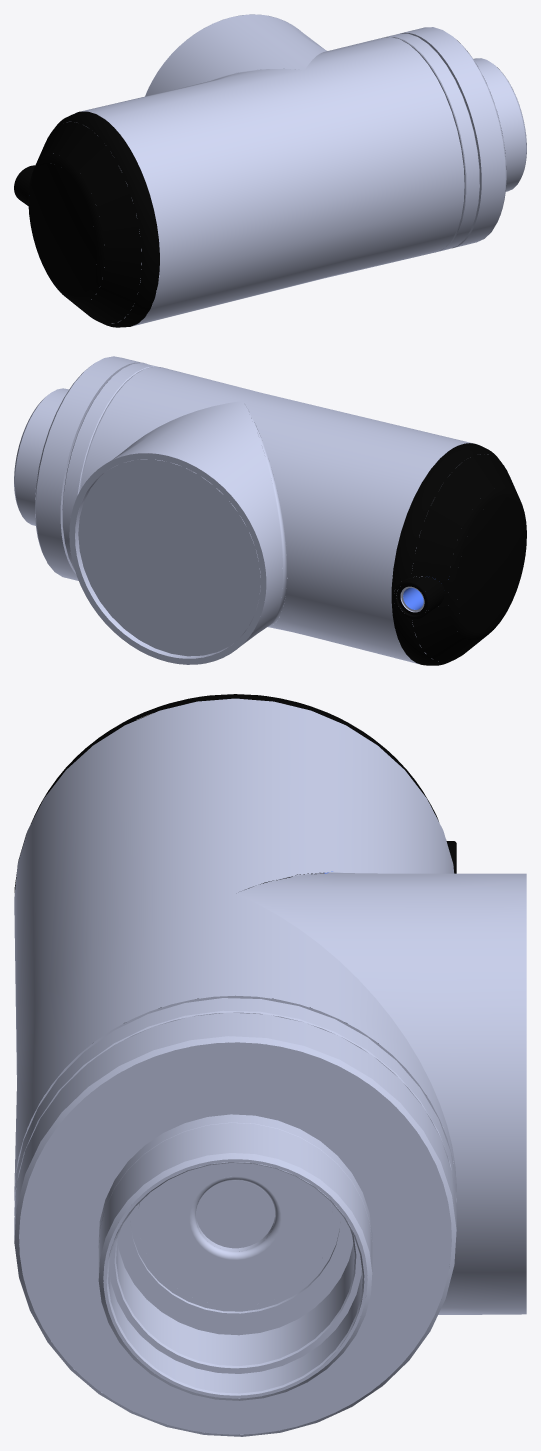
3 views of the same model, one above another, from view 1: azimuth 30°, elevation 25°; view 2: azimuth 150°, elevation 25°; view 3: azimuth 270°, elevation 25° (orthographic). The views are drawn at different scales.
Visible parts, largest first — view 1: j4.IGS (×3); view 2: j4.IGS (×3); view 3: j4.IGS (×3).
Part boxes in pixels (box(x1,y1,x2,y2)): j4.IGS (×3): box(14, 14, 526, 327); j4.IGS (×3): box(14, 356, 526, 665); j4.IGS (×3): box(14, 694, 526, 1436).
Bounding box in the file's own units: 0.3155 × 0.139 × 0.161.
